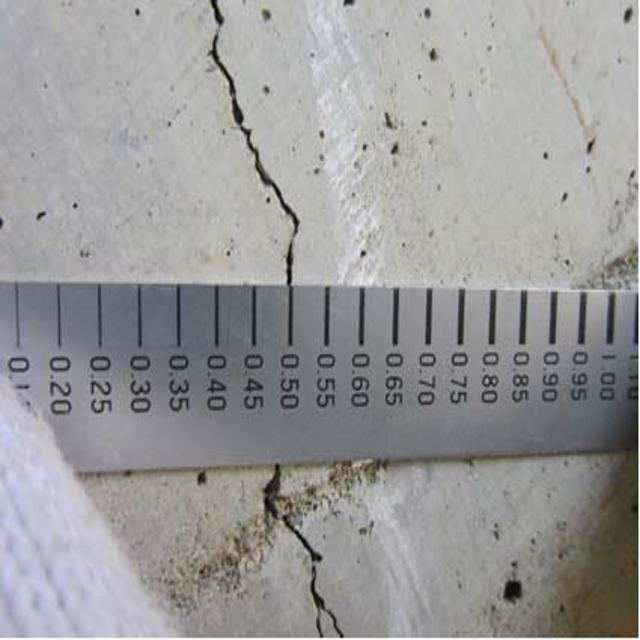crack: (194, 1, 327, 286), (249, 467, 354, 637)
